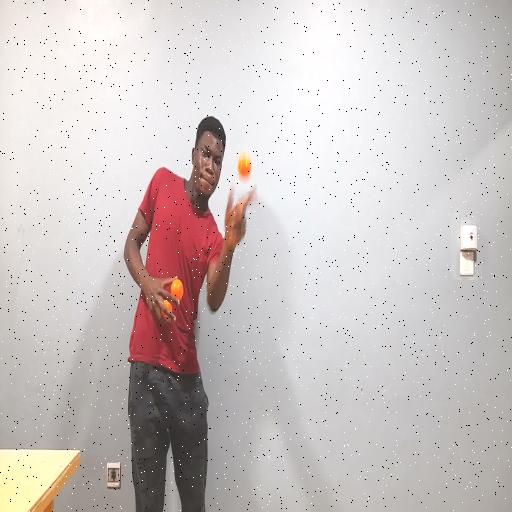plastic-ball: (232, 141, 257, 188)
